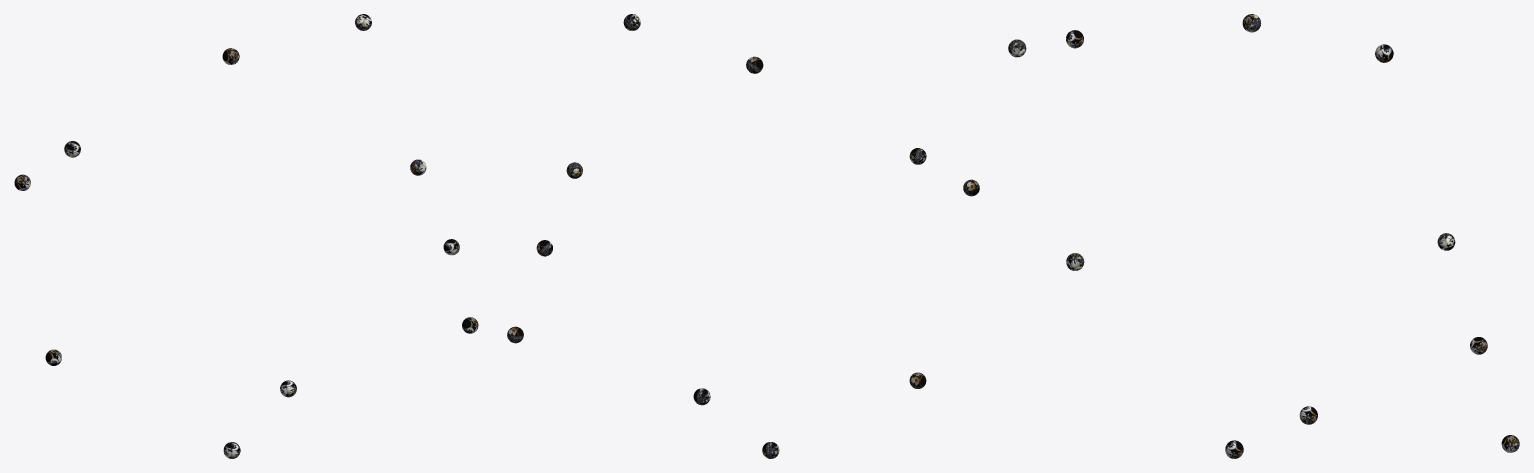
3 views of the same model, side by side, from view 1: azimuth 30°, elevation 25°; view 2: azimuth 150°, elevation 25°; view 3: azimuth 330°, elevation 25° (orthographic). The views are drawn at different scales.
Bounding box in the file's own units: 0.7033 × 0.5919 × 0.0647.
